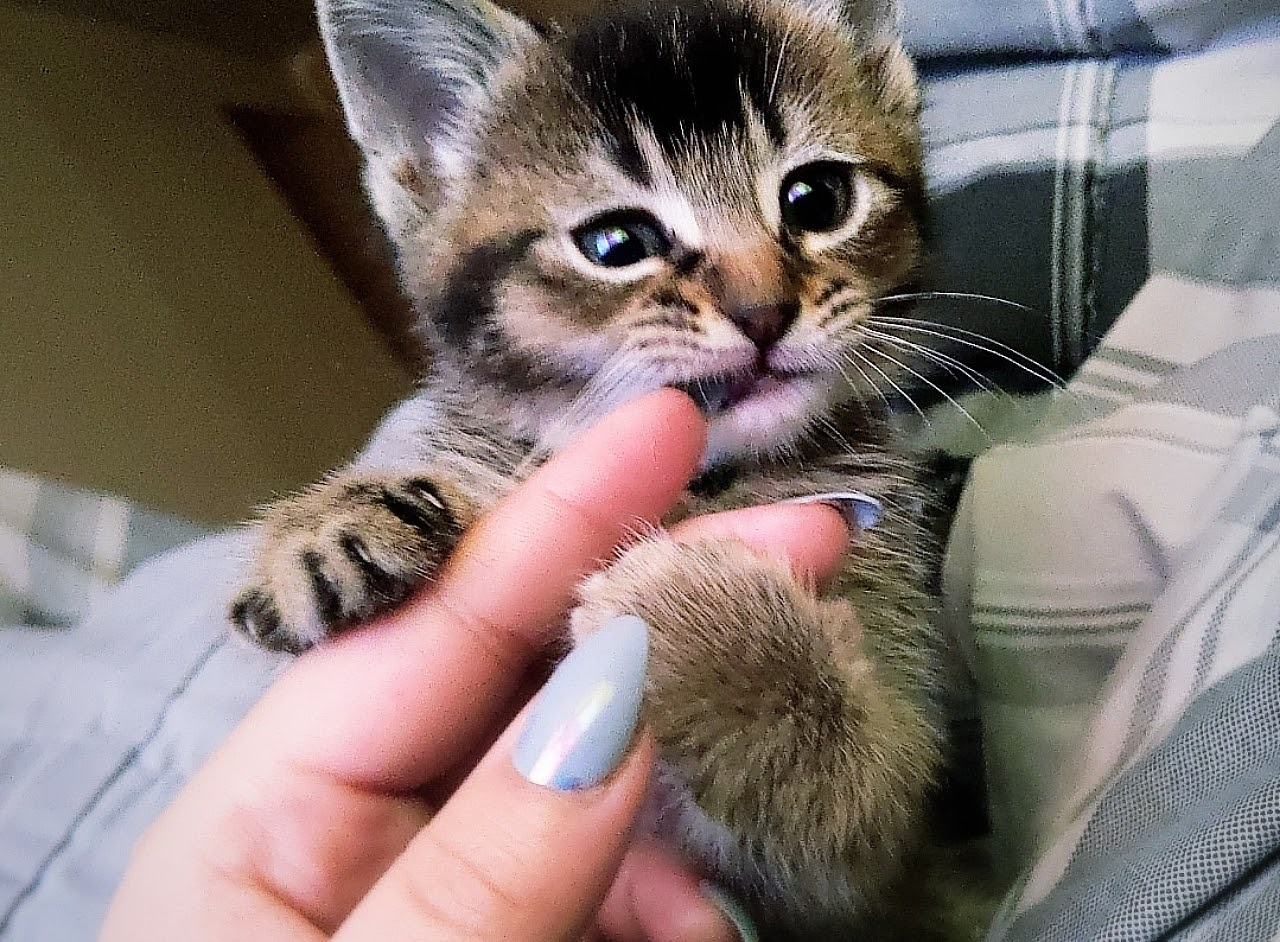luna: (222, 1, 1111, 917)
